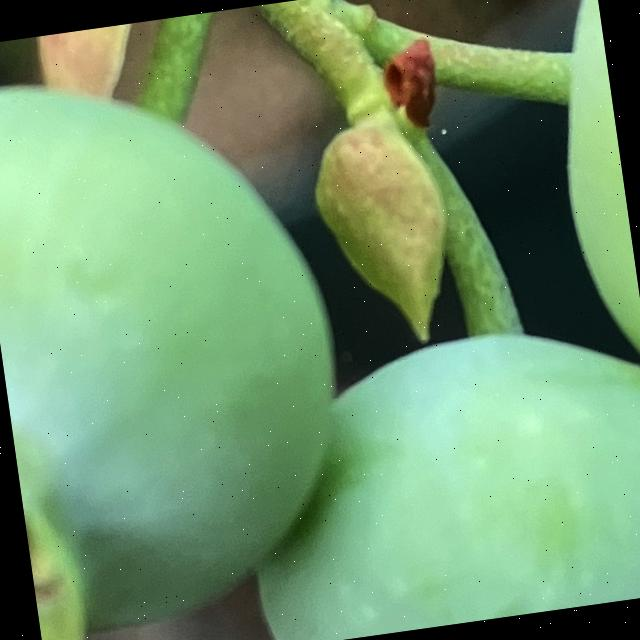Blueberries: (0, 24, 385, 640), (227, 304, 640, 640)
